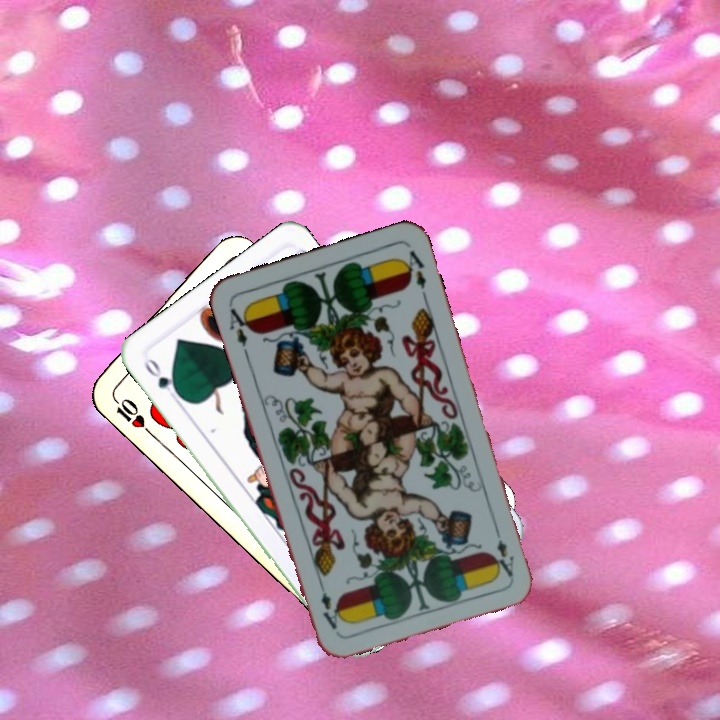EA: (225, 301, 255, 358), (490, 522, 518, 580)
GO: (140, 354, 185, 405)
H10: (108, 391, 148, 431)
